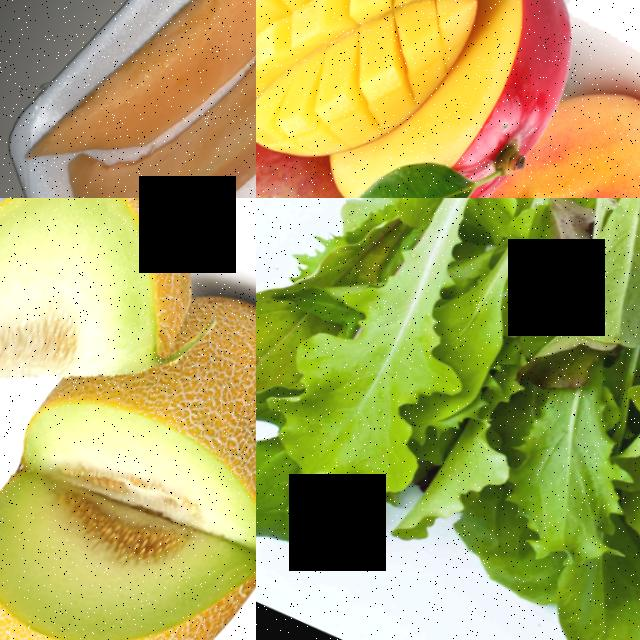lettuce: (256, 198, 640, 640)
mango: (256, 98, 357, 198)
melon: (0, 343, 256, 640), (0, 198, 188, 460), (0, 0, 242, 198)
